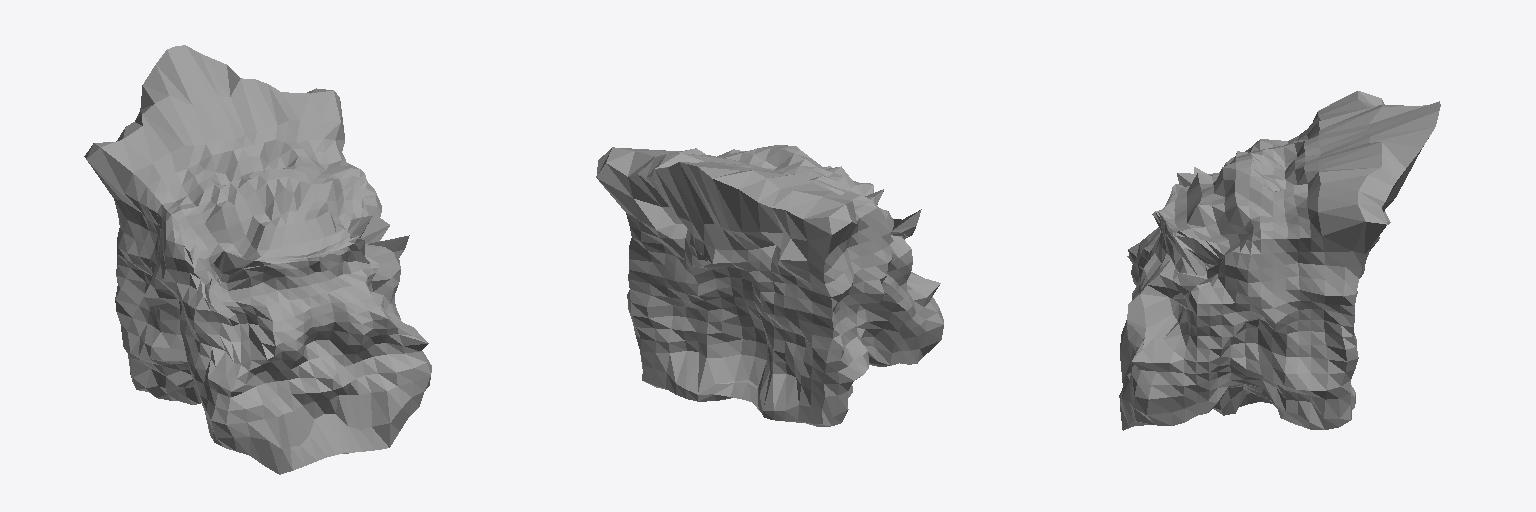
The model's file is player.obj.
3 renders of one model, left to right at view 1: azimuth 30°, elevation 25°; view 2: azimuth 150°, elevation 25°; view 3: azimuth 270°, elevation 25°, orthographic.
Parts seen in each view (by area): view 1: Cube; view 2: Cube; view 3: Cube.
Part boxes in pixels (x1,y1,x2,y2): Cube: (84, 45, 431, 474); Cube: (596, 145, 943, 426); Cube: (1119, 91, 1440, 430).
Size of the model in its own units: 2.9 by 3.29 by 3.19.